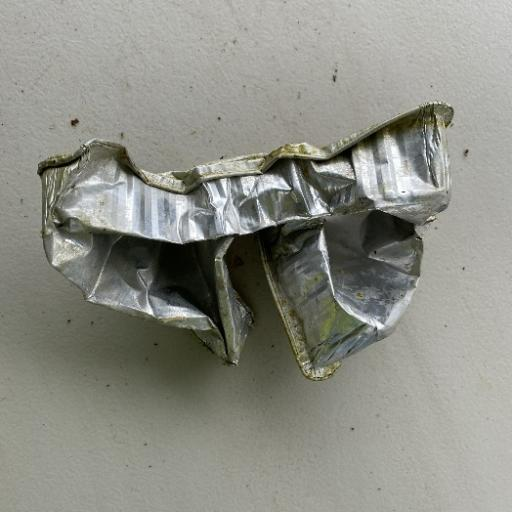Metal: (35, 98, 456, 382)
